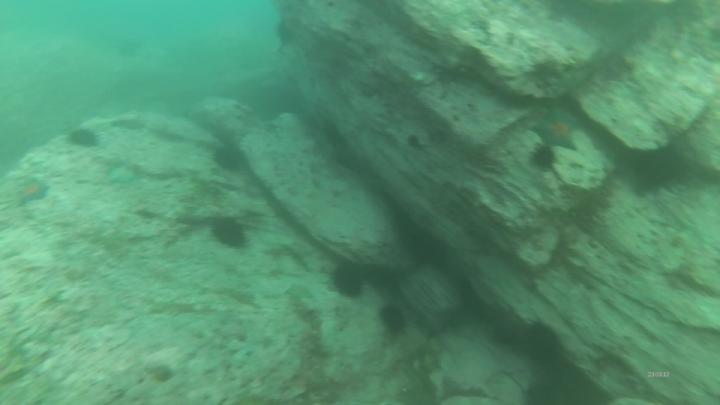echinus: (522, 322, 556, 363), (334, 259, 365, 298), (211, 220, 246, 247), (216, 144, 247, 172), (379, 305, 406, 332), (67, 131, 96, 149), (533, 148, 556, 168)
starfish: (533, 109, 577, 149), (17, 182, 48, 203), (111, 167, 137, 185), (290, 283, 314, 300)
